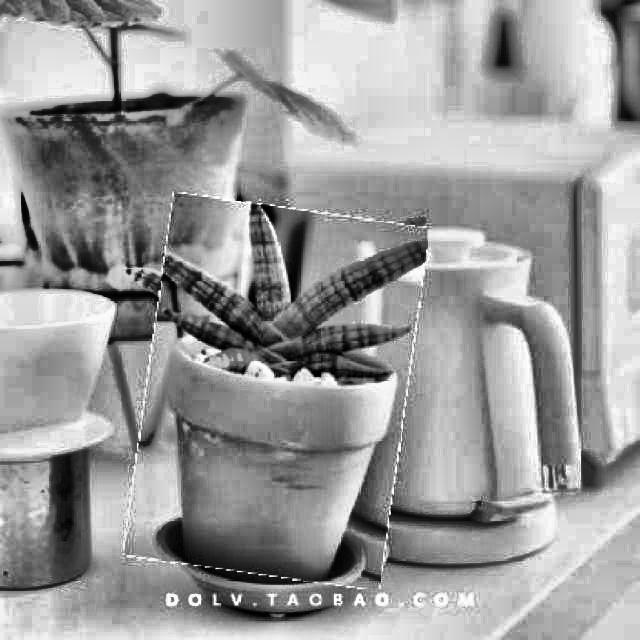plants: (136, 201, 418, 584)
